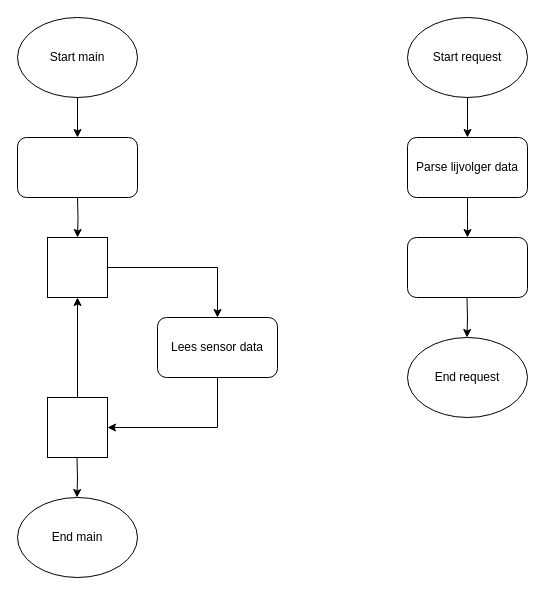
This 545x595 diagram has some shape labels left out. The shapes that lost their labels are listed below. From the top down, each one's box as (x1, y1, x2, y2) in pixels, then its label:
(16, 136, 138, 198): Initialisatie I/O en I2C
(46, 236, 108, 298): void loop
(406, 236, 528, 298): Verstuur data in bytes via I2C
